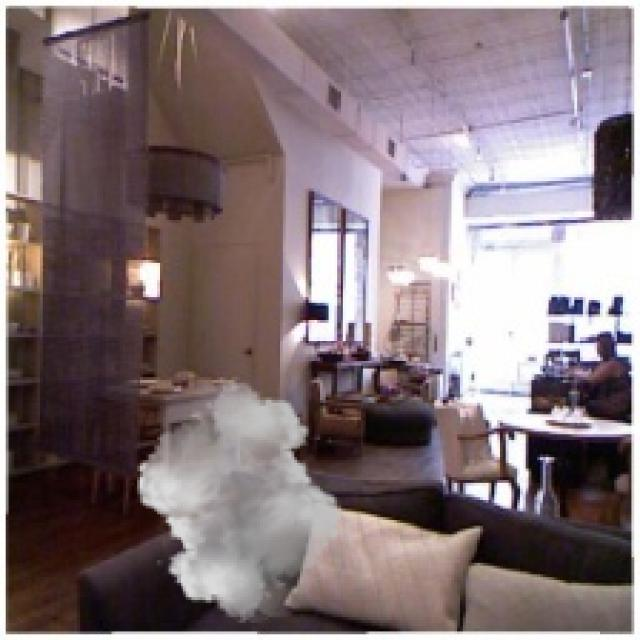smoke: (128, 377, 348, 623)
